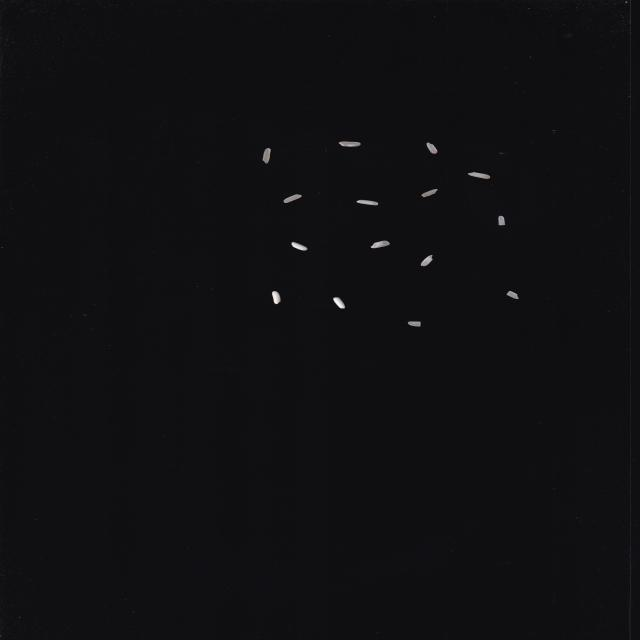Chalky: (370, 240, 391, 248), (421, 255, 434, 266), (338, 141, 361, 147), (356, 200, 379, 206)
Not: (283, 194, 303, 204), (467, 172, 491, 180), (421, 188, 438, 198), (332, 297, 346, 309), (425, 142, 438, 154), (291, 242, 308, 251), (262, 148, 271, 164), (272, 291, 282, 304), (506, 290, 519, 300), (497, 215, 506, 226), (408, 321, 422, 327)
